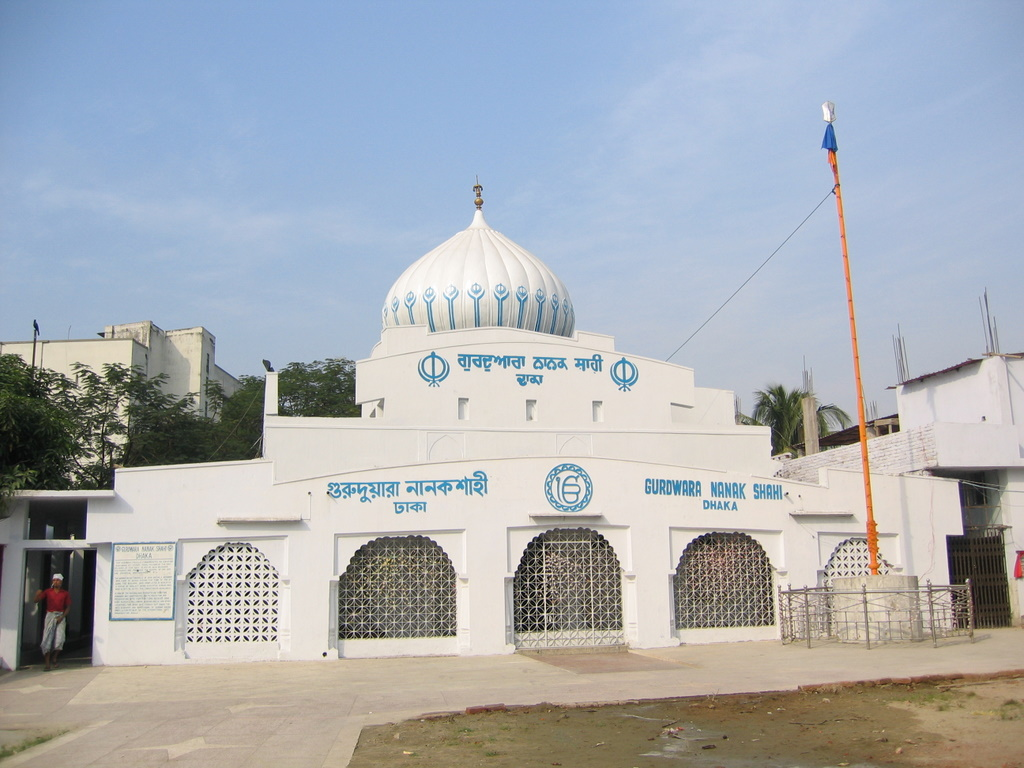Gurdwara: (89, 172, 889, 647)
